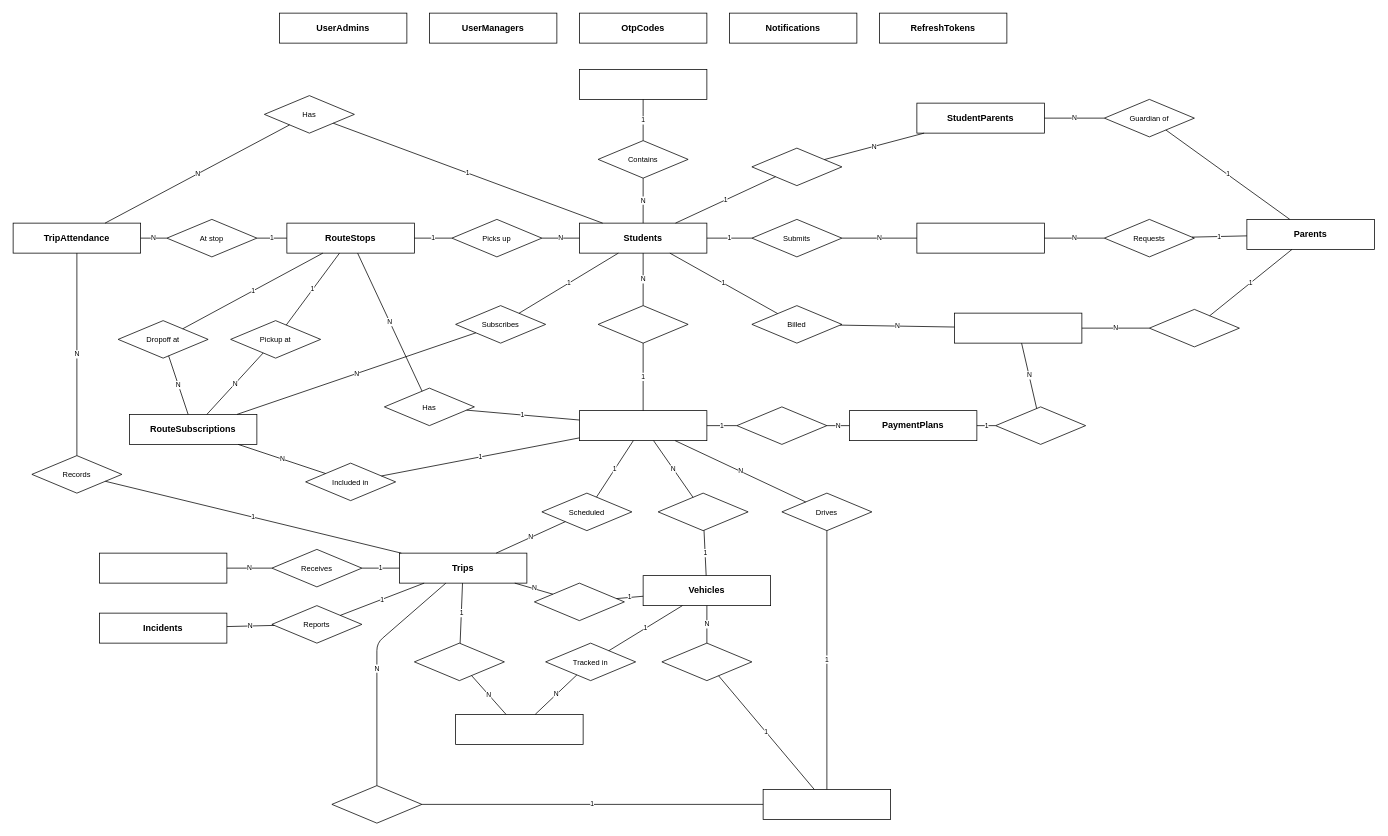
Image size: 1388x836. Some labels were removed from this diagram. Each missing label, with the box of its shape:
AbsentRequests: (916, 222, 1044, 253)
Applies to: (995, 406, 1086, 444)
Assigned to: (657, 492, 748, 531)
Classes: (579, 69, 707, 99)
Defines: (736, 406, 827, 444)
Drives trip: (331, 785, 422, 823)
Feedbacks: (99, 552, 227, 583)
Has guardian: (751, 147, 842, 186)
Invoices: (954, 312, 1082, 343)
LocationLogs: (455, 714, 583, 744)
Logs: (414, 642, 504, 681)
Operates: (661, 642, 752, 681)
Pays: (1149, 309, 1239, 347)
Routes: (579, 410, 707, 441)
Serves: (597, 305, 688, 343)
Used in: (534, 582, 624, 621)
UserDrivers: (762, 789, 891, 819)
